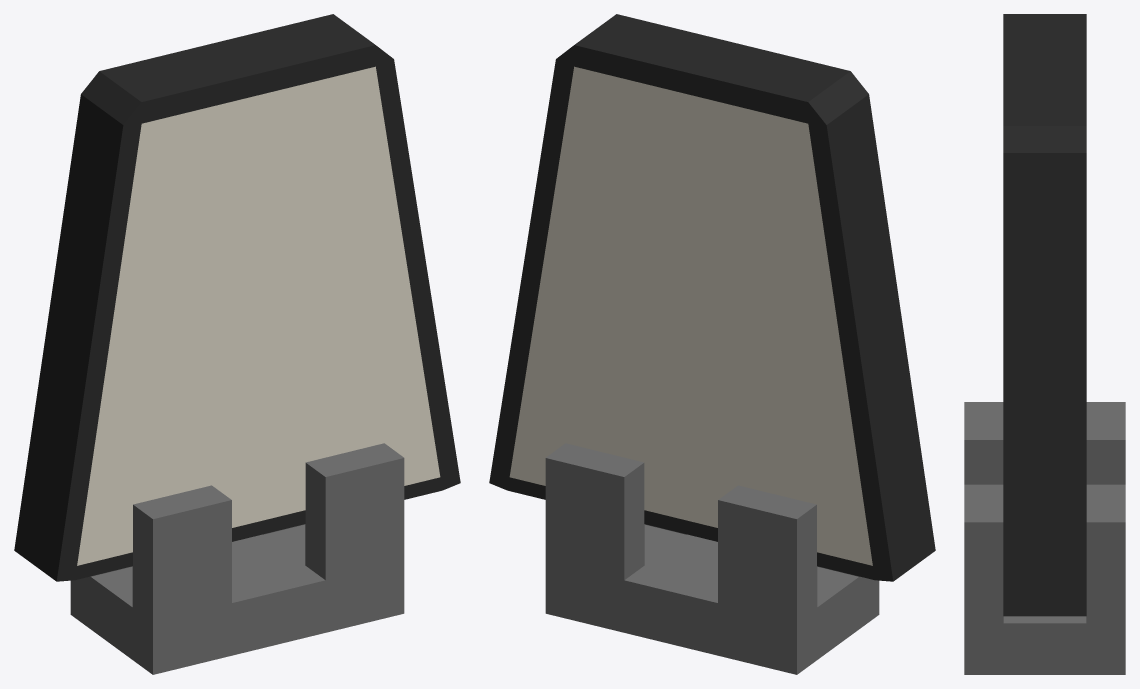
The model's file is basicobstacle.fbx.
The picture shows the model from 3 angles, left to right: view 1: azimuth 30°, elevation 25°; view 2: azimuth 150°, elevation 25°; view 3: azimuth 270°, elevation 25°; orthographic projection. The views are drawn at different scales.
Visible parts, largest first — view 1: Cube, Cube.001; view 2: Cube, Cube.001; view 3: Cube, Cube.001.
Part boxes in pixels (bbox=[...]): Cube: bbox=[14, 14, 460, 581]; Cube.001: bbox=[70, 443, 404, 674]; Cube: bbox=[489, 14, 935, 581]; Cube.001: bbox=[545, 443, 879, 674]; Cube: bbox=[1003, 14, 1086, 616]; Cube.001: bbox=[964, 402, 1125, 674].
Bounding box in the file's own units: 220 × 289 × 77.68.
